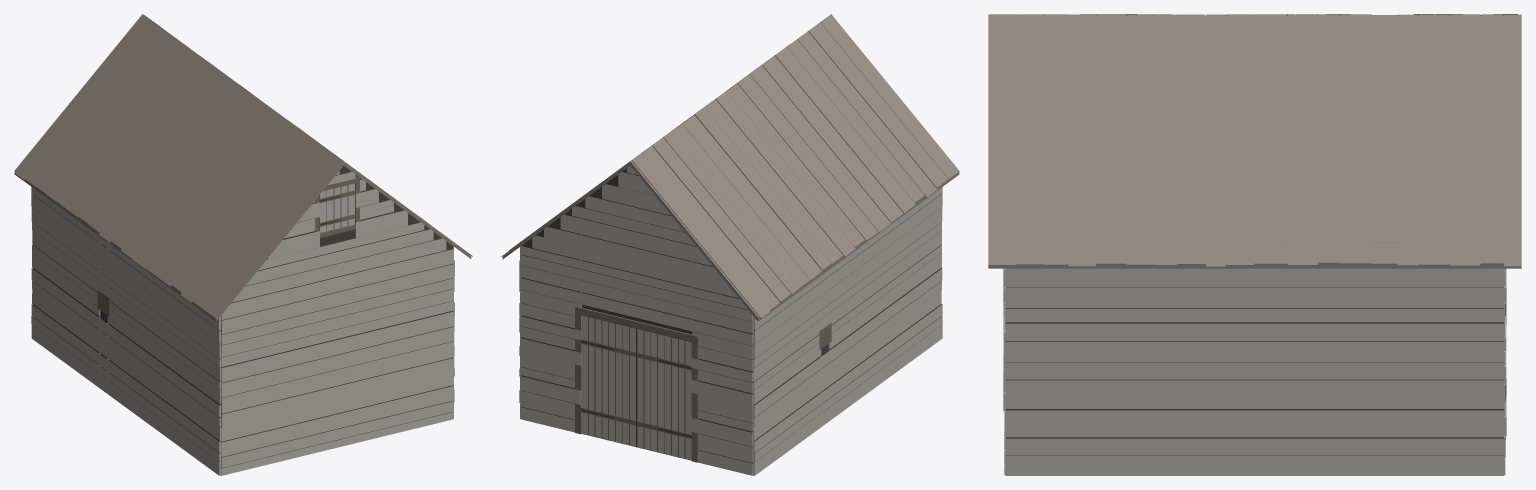
Rendered from recon_1835_west_053__inferred_1835.glb.
3 renders of one model, left to right at view 1: azimuth 30°, elevation 25°; view 2: azimuth 150°, elevation 25°; view 3: azimuth 270°, elevation 25°, orthographic. The views are drawn at different scales.
Parts seen in each view (by area): view 1: recon_1835_west_053__inferred_1835; view 2: recon_1835_west_053__inferred_1835; view 3: recon_1835_west_053__inferred_1835.
Boxes of the visible parts, x1,y1,x2,y2 form: recon_1835_west_053__inferred_1835: [14, 14, 472, 475]; recon_1835_west_053__inferred_1835: [501, 14, 959, 475]; recon_1835_west_053__inferred_1835: [988, 14, 1521, 475].
Bounding box in the file's own units: 6.79 × 7.3 × 9.14.
